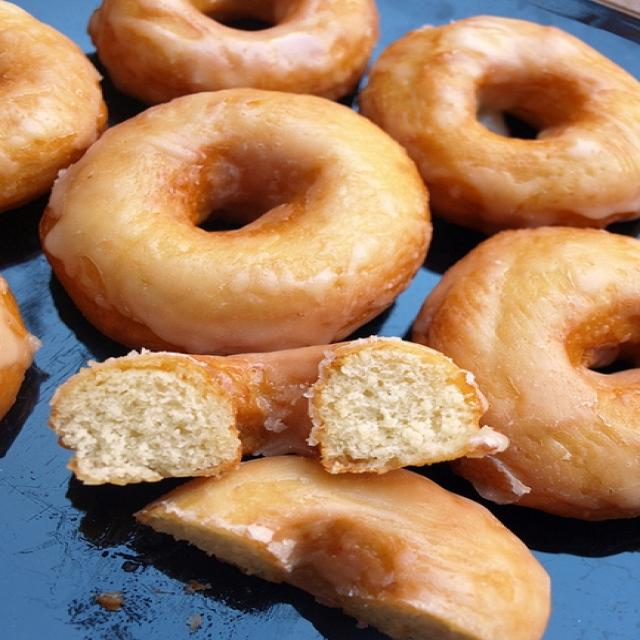炸货点心: (21, 13, 613, 626)
